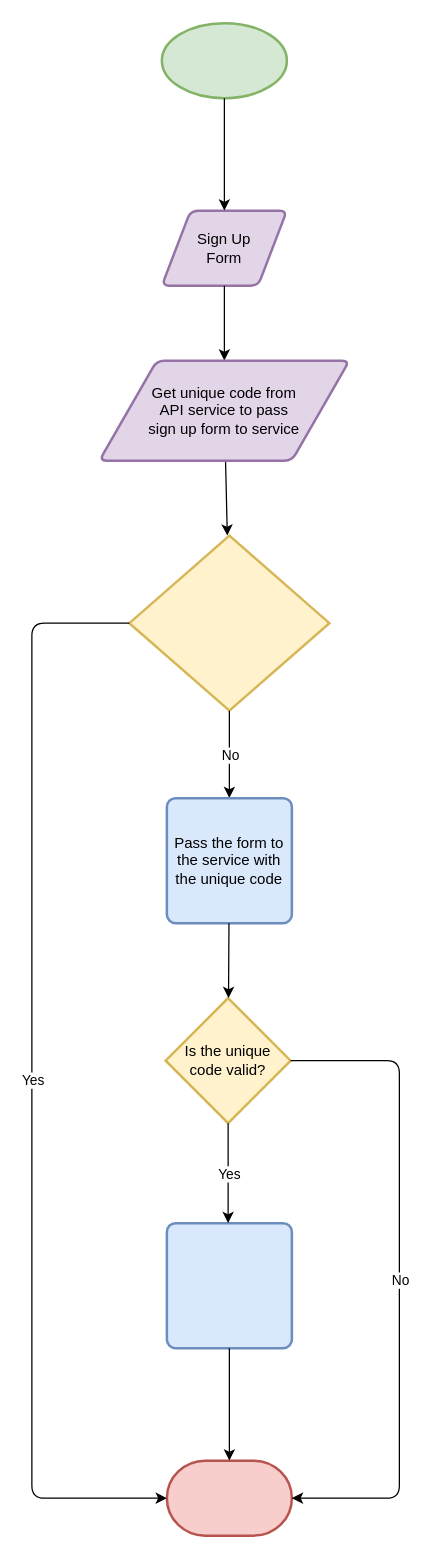
Some shapes in this 431 by 1558 pixel diagram are drawn without their labels. The centre of each missing label's shape, as x and y in pixels:
"Have more than 5 requests been made from that IP to get UCode in last 5 minute?" belongs at pixel 229 622.
"Record the user to the database" belongs at pixel 228 1285.
